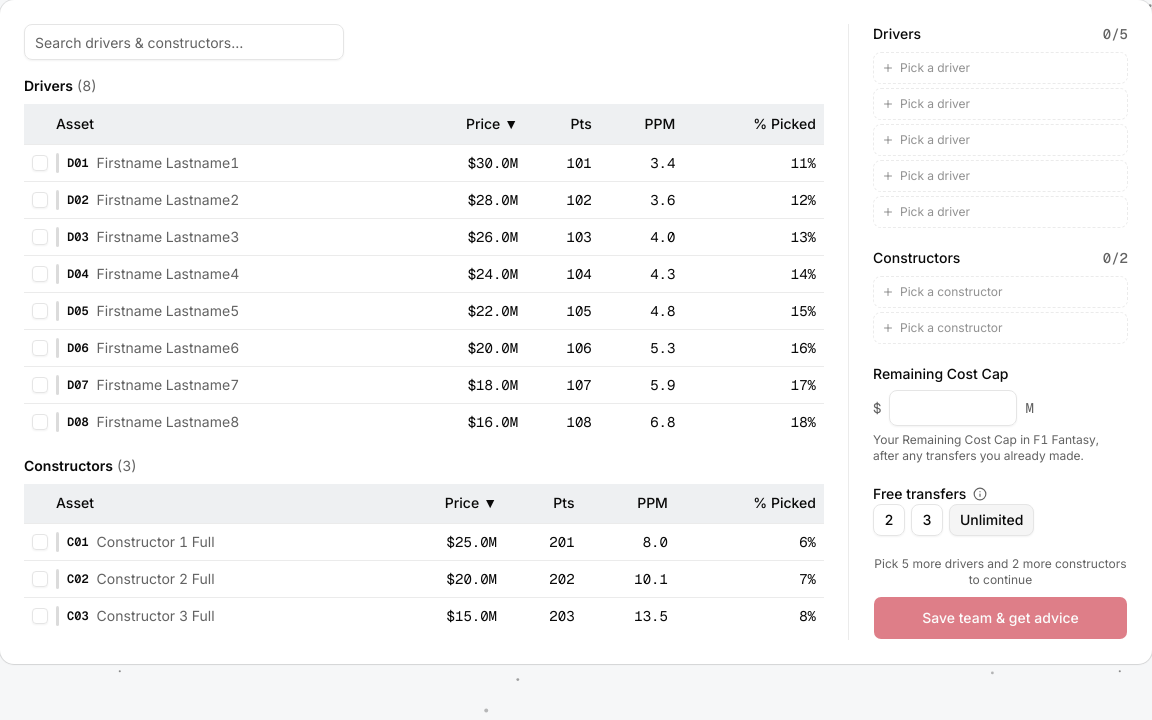
Test: TeamPicker › summary lists each pick under its count, and removing one frees the slot
The image size is (1152, 720).
Expected: the heading "Constructors 0/2" is shown, [873,248,1128,268]
Expected: the number of buttons "Pick a driver" is 5, [873,52,1128,84]; [873,88,1128,120]; [873,124,1128,156]; [873,160,1128,192]; [873,196,1128,228]
Click the checkbox named "Select Firstname Lastname1": (40,162) [32,154,48,170]
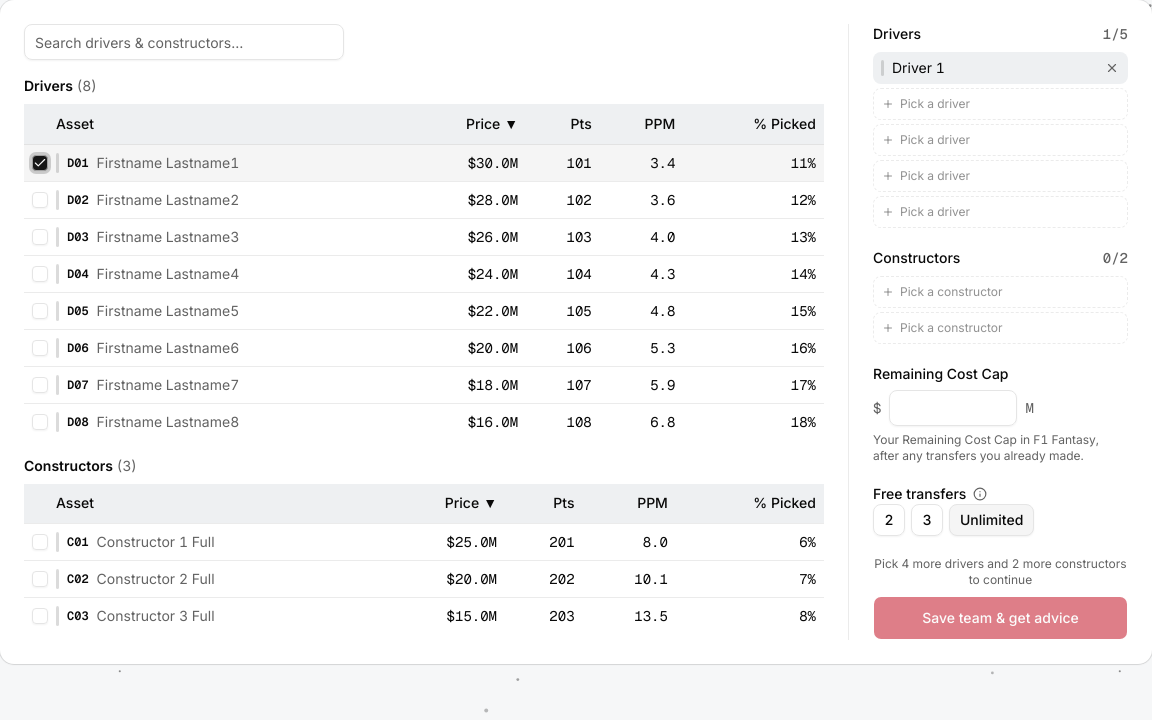
Expected: the number of buttons "Pick a driver" is 4, [873,88,1128,120]; [873,124,1128,156]; [873,160,1128,192]; [873,196,1128,228]
Expected: the heading "Drivers 1/5" is shown, [873,24,1128,44]
Expected: the text "Driver 1" is shown, [892,59,945,76]
Click the button named "Remove Driver 1": (1112,68) [1100,56,1124,80]
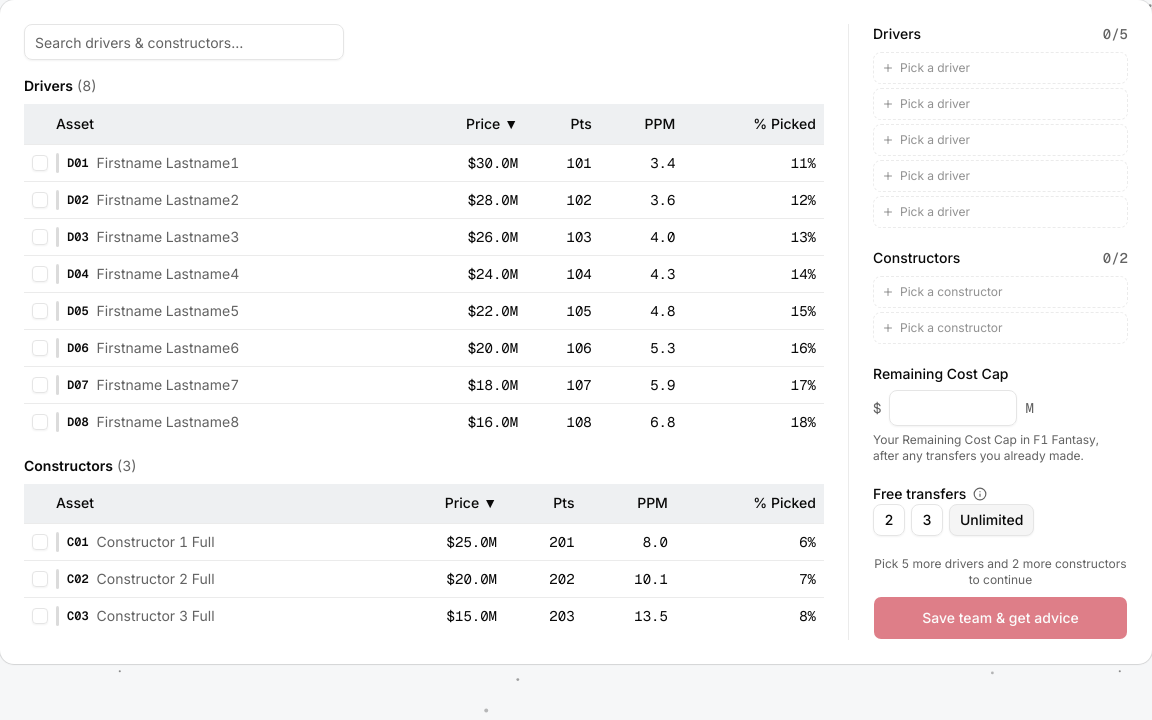
Expected: the heading "Drivers 0/5" is shown, [873,24,1128,44]
